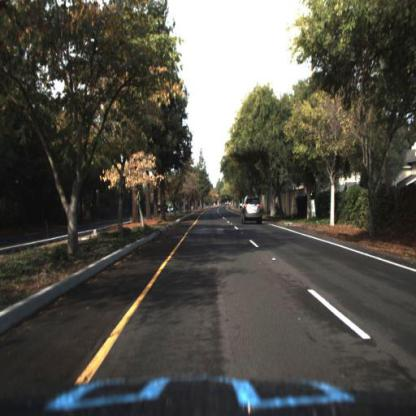car: (239, 194, 265, 226)
